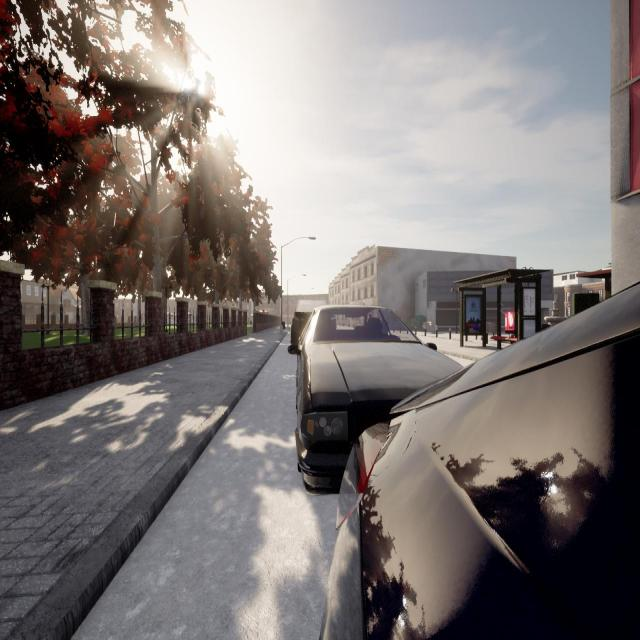Vehicle: (321, 286, 640, 640), (287, 305, 463, 491), (290, 299, 330, 344)
